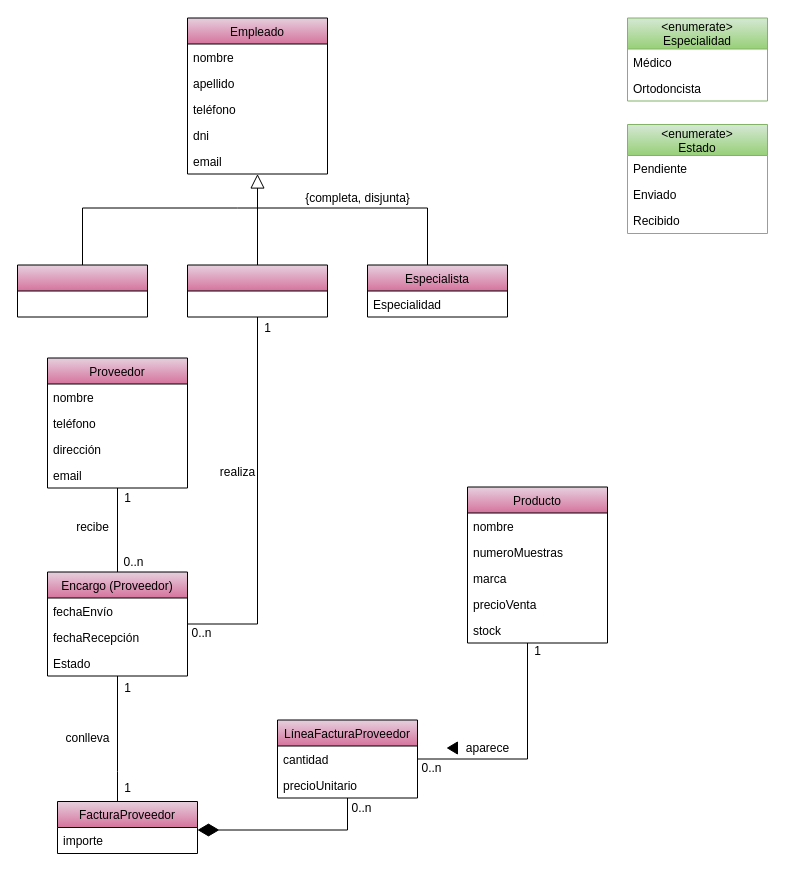
Image size: 785x873. Some labels were removed from this diagram. The shapes that lost their labels are listed below. From the top down, each one's centre as x and y in pixels, then its label:
At (x=82, y=290): "Recepcionista".
At (x=257, y=290): "AdministradorVenta".
